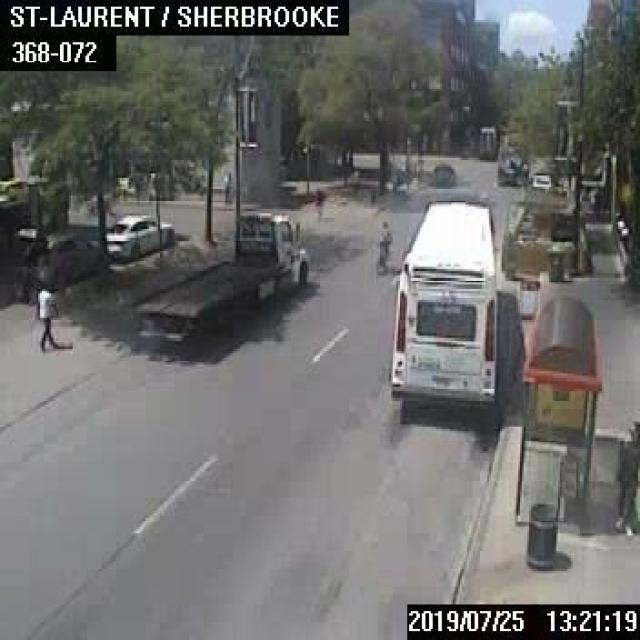bus: (389, 198, 495, 424)
cyclist: (374, 220, 391, 273)
pedestrian: (613, 420, 638, 533), (34, 278, 56, 349), (220, 170, 230, 201)
vehicle: (130, 211, 307, 337), (12, 227, 103, 296), (105, 211, 172, 263), (495, 134, 527, 186), (474, 124, 496, 160), (528, 165, 554, 195), (432, 162, 452, 180)
